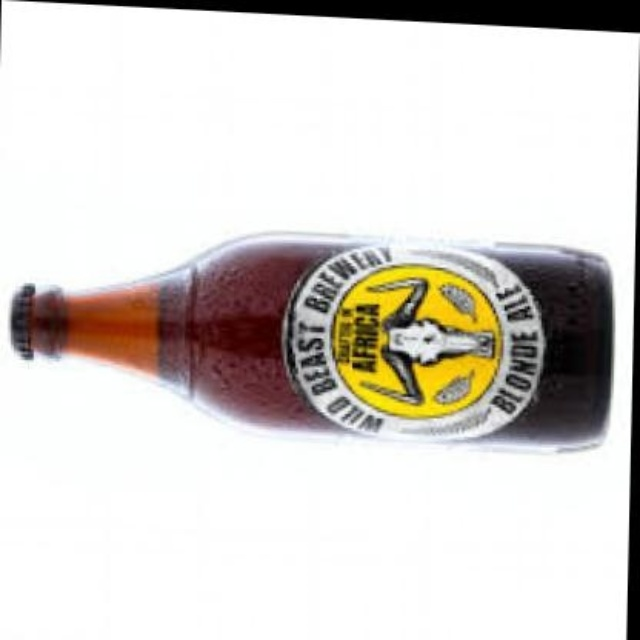trash: (11, 234, 611, 445)
